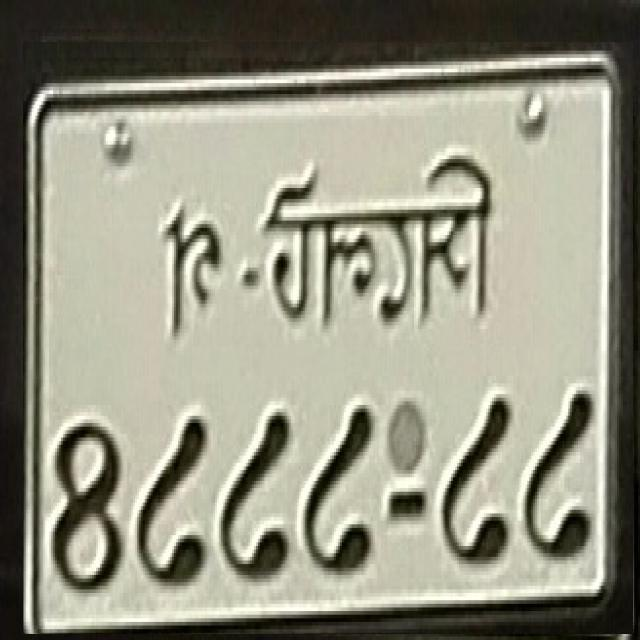cng: (163, 149, 399, 329)
numberplate: (23, 42, 633, 634)
